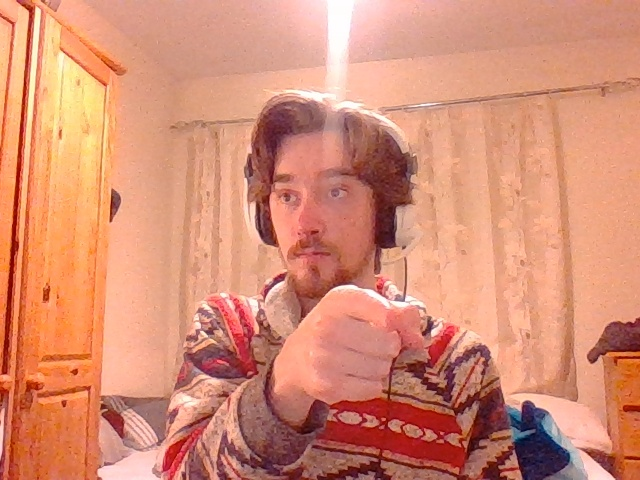you: (288, 286, 423, 409)
